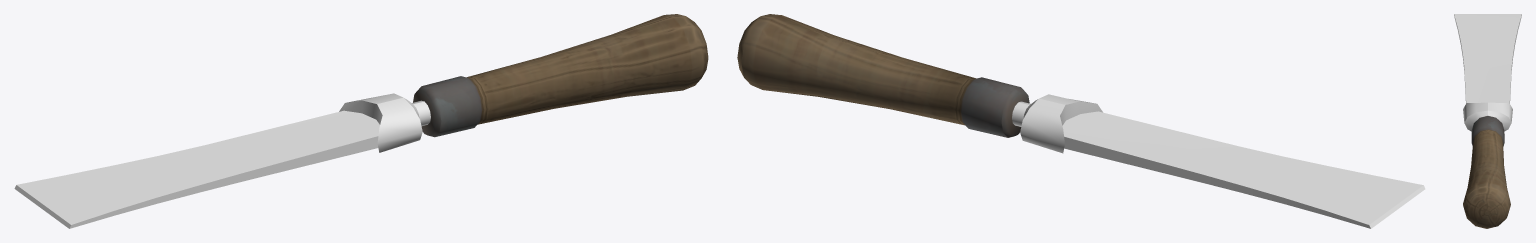
Rendered from SM_Farm_Chisel_02.fbx.
3 renders of one model, left to right at view 1: azimuth 30°, elevation 25°; view 2: azimuth 150°, elevation 25°; view 3: azimuth 270°, elevation 25°, orthographic. The views are drawn at different scales.
Parts seen in each view (by area): view 1: SM_Farm_Chisel_02_LOD0; view 2: SM_Farm_Chisel_02_LOD0; view 3: SM_Farm_Chisel_02_LOD0.
Boxes of the visible parts, box(x1,y1,x2,y2) form: SM_Farm_Chisel_02_LOD0: box(14, 14, 708, 228); SM_Farm_Chisel_02_LOD0: box(737, 14, 1425, 228); SM_Farm_Chisel_02_LOD0: box(1454, 14, 1521, 228).
Size of what is drawn, in the model's own units: 56.3 by 5.81 by 8.17.
